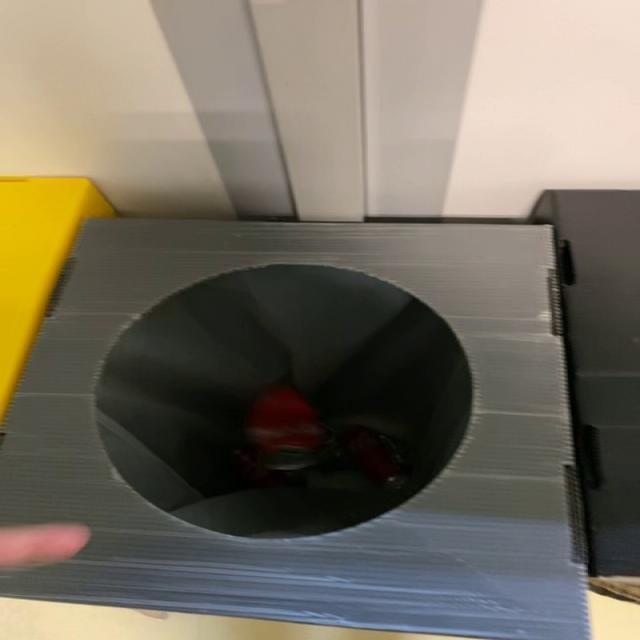Bin: (1, 220, 591, 640), (1, 220, 589, 640)
Metal: (245, 385, 328, 472)
